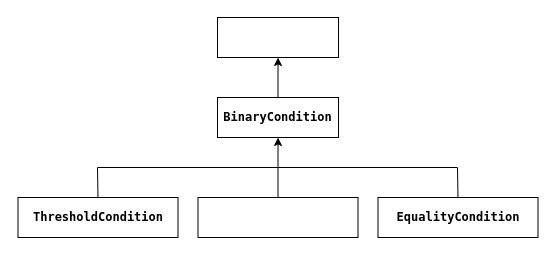
Image size: 555x255. Some labels were removed from this diagram. The centre of each missing label's shape, as x and y in pixels:
"Condition" belongs at pixel 277 37.
"MembershipCondition" belongs at pixel 277 217.
